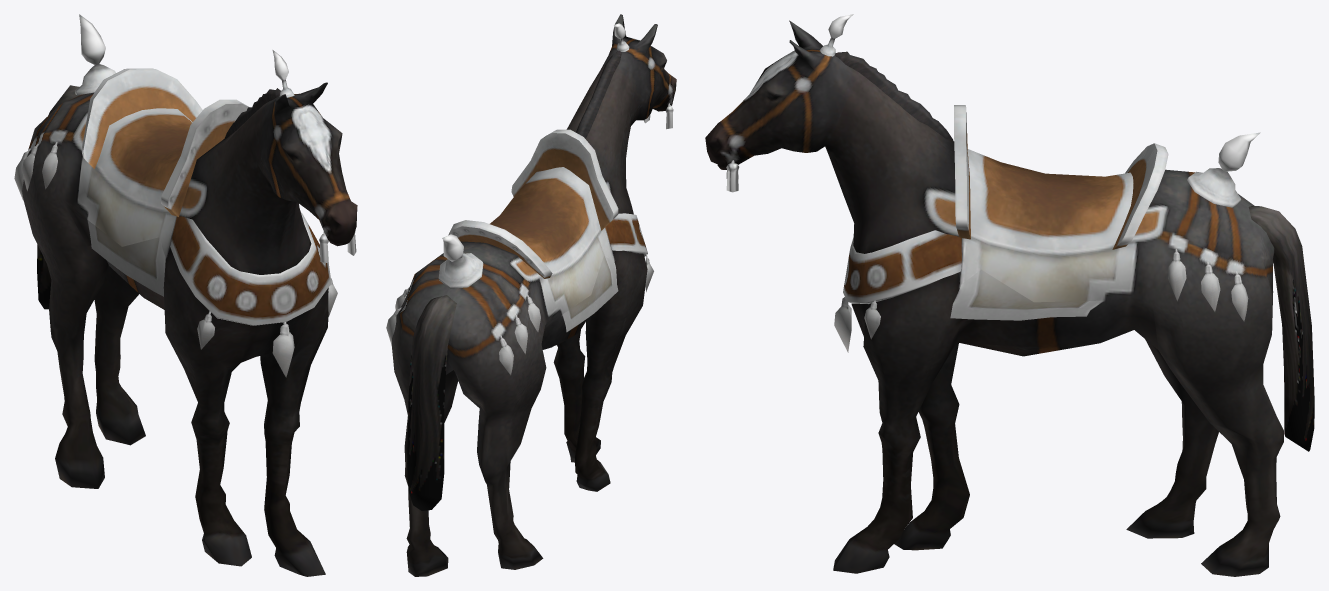
Rendered from body-heavyarchers.glb.
3 renders of one model, left to right at view 1: azimuth 30°, elevation 25°; view 2: azimuth 150°, elevation 25°; view 3: azimuth 270°, elevation 25°, orthographic. The views are drawn at different scales.
Bounding box in the file's own units: 0.8204 × 2.58 × 2.65.
Materials: 1 (1 with a texture image).
